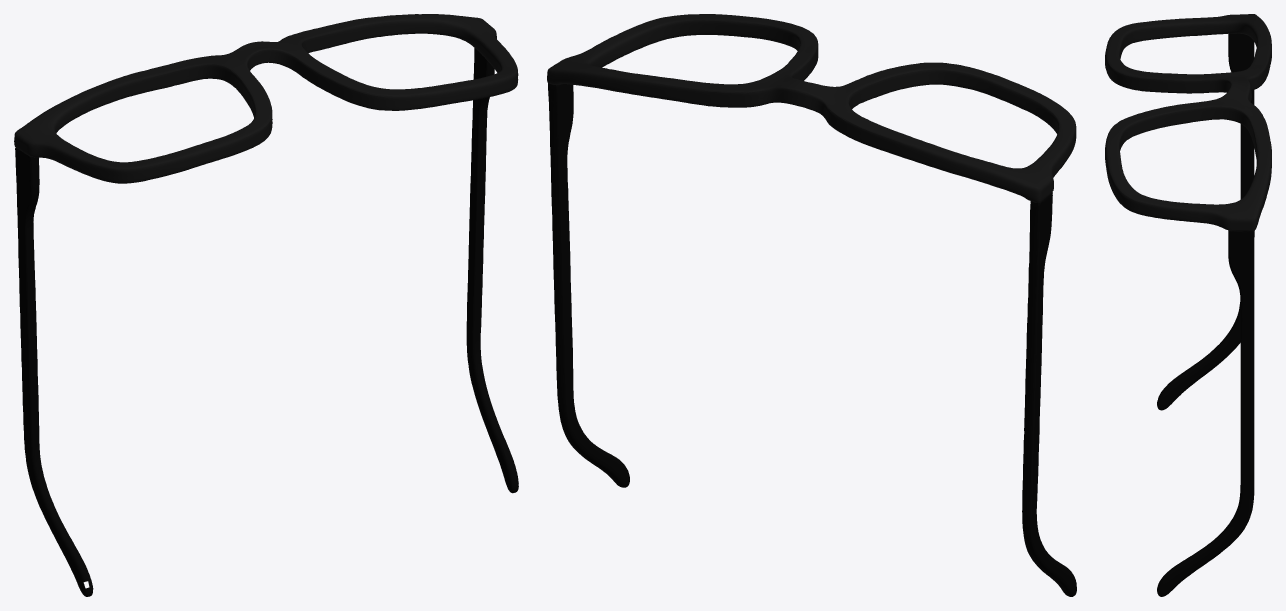
File: glasses-1.glb
3 views of the same model, side by side, from view 1: azimuth 30°, elevation 25°; view 2: azimuth 150°, elevation 25°; view 3: azimuth 270°, elevation 25° (orthographic). The views are drawn at different scales.
Visible parts, largest first — view 1: Frame_1_5, Handles_2_7; view 2: Frame_1_5, Handles_2_7; view 3: Frame_1_5, Handles_2_7.
Boxes of the visible parts, x1,y1,x2,y2 form: Frame_1_5: [14, 14, 518, 183]; Handles_2_7: [15, 48, 518, 596]; Frame_1_5: [547, 14, 1076, 202]; Handles_2_7: [548, 83, 1076, 596]; Frame_1_5: [1105, 14, 1271, 231]; Handles_2_7: [1157, 33, 1254, 596].
Bounding box in the file's own units: 2.02 × 1.92 × 0.6928.
3 materials, 1 textured.
